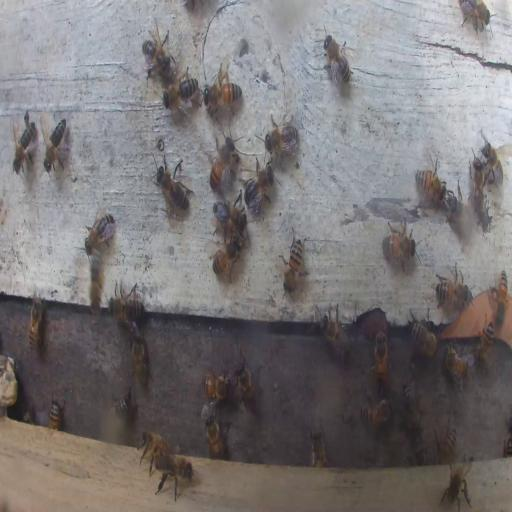bee: (155, 157, 193, 216), (242, 158, 275, 216), (140, 22, 174, 77), (319, 302, 351, 359), (322, 31, 352, 90), (203, 66, 243, 110), (440, 457, 472, 511), (156, 451, 193, 497), (109, 280, 144, 328), (42, 118, 70, 176), (136, 429, 169, 477), (265, 114, 300, 158), (11, 113, 36, 174), (162, 74, 202, 112), (382, 224, 418, 266), (234, 355, 258, 415), (208, 136, 234, 190), (84, 210, 115, 254), (282, 232, 304, 294), (478, 134, 503, 188), (409, 314, 439, 358), (88, 245, 106, 315), (415, 162, 445, 203), (446, 191, 475, 233), (471, 150, 487, 226), (434, 272, 468, 306), (129, 334, 151, 386), (213, 199, 245, 233), (28, 295, 46, 354), (360, 396, 393, 428), (211, 239, 242, 273), (402, 383, 423, 432), (458, 2, 493, 31), (205, 411, 224, 459), (372, 329, 388, 386), (202, 370, 230, 401), (444, 349, 469, 383), (495, 264, 508, 325), (310, 425, 328, 468), (436, 425, 458, 459), (477, 318, 494, 362), (111, 384, 131, 416), (48, 399, 62, 431), (22, 407, 34, 422)
